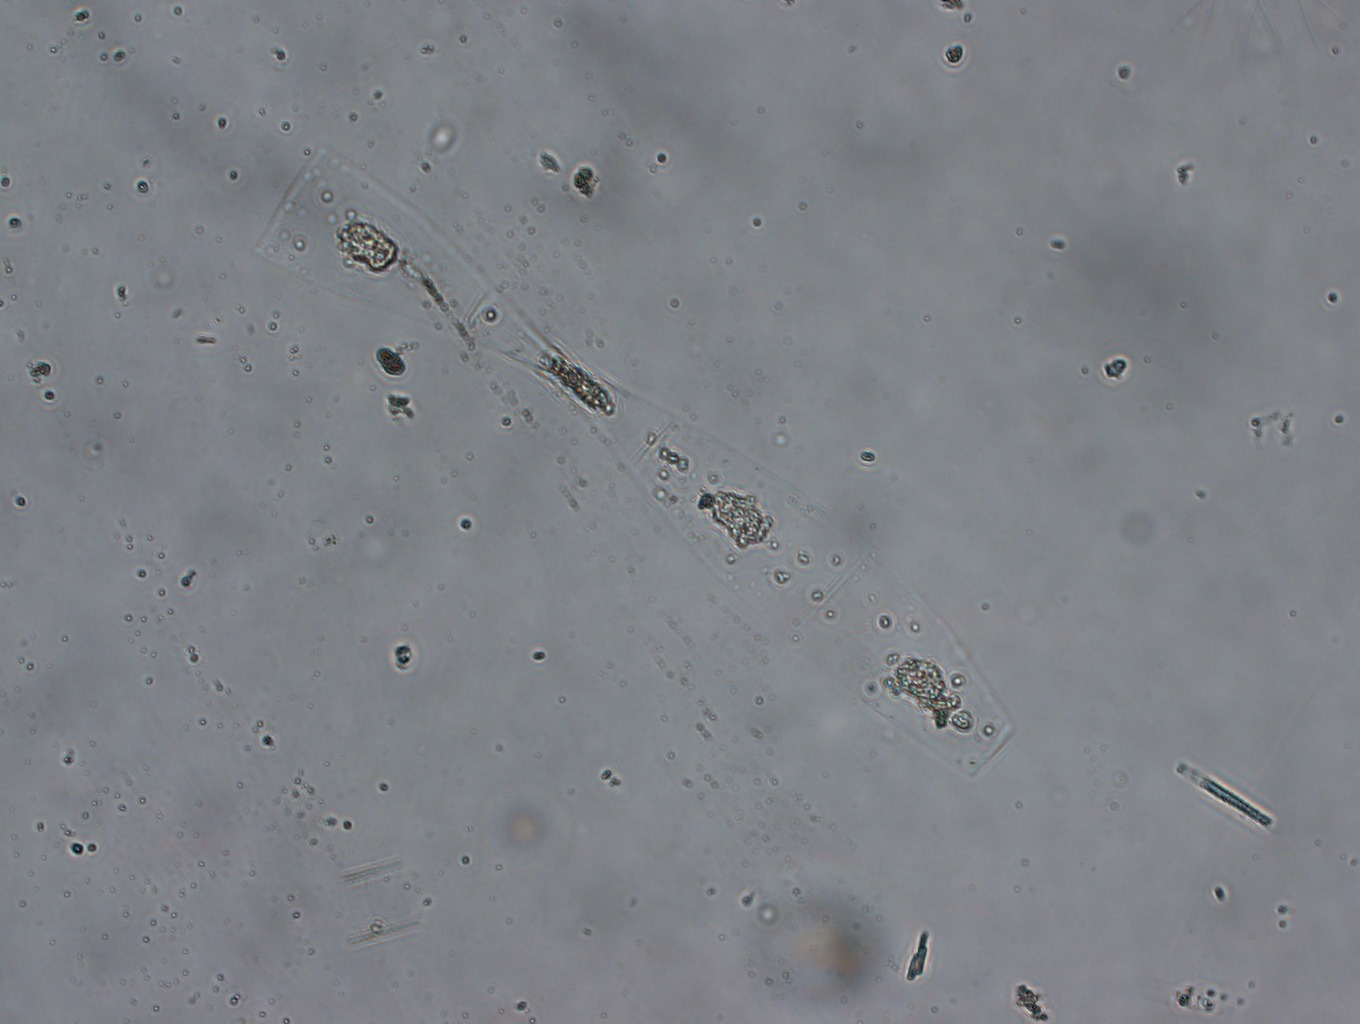helicotheca: (246, 137, 1020, 783)
